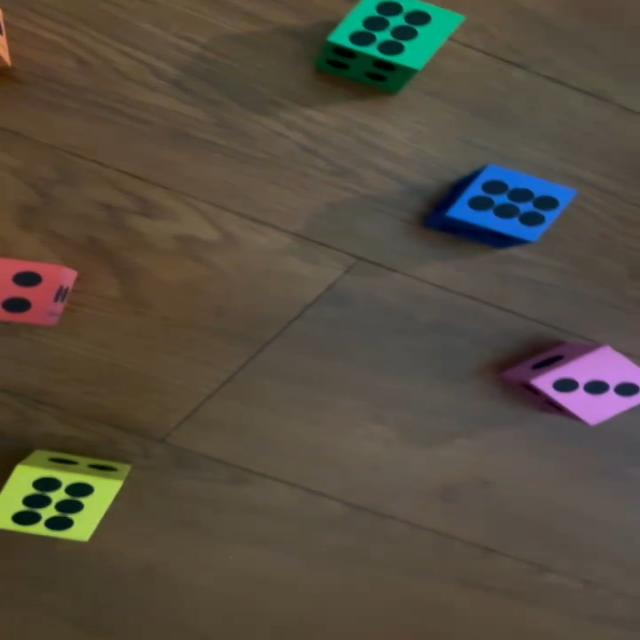blue_block: (428, 166, 574, 246)
red_block: (0, 258, 78, 326)
